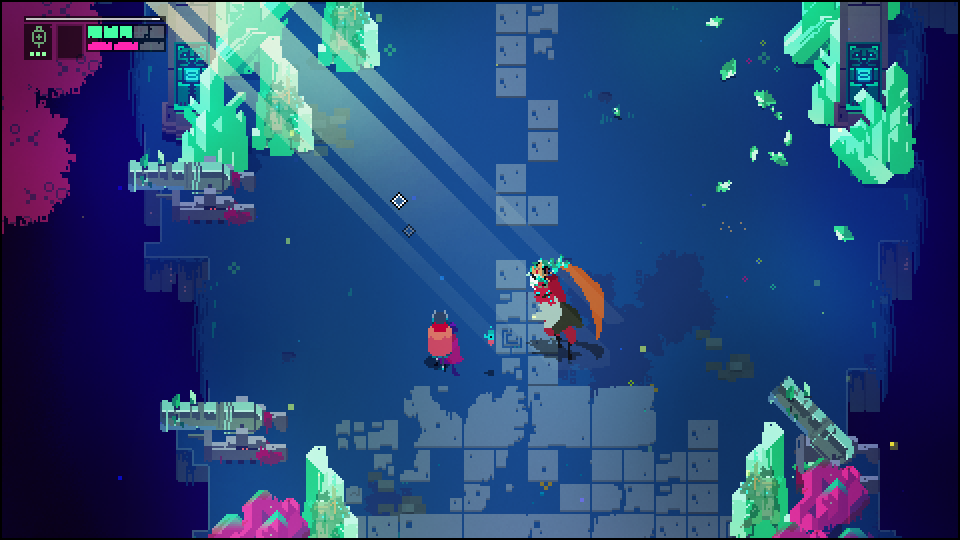hanged_man: (522, 253, 588, 359)
player: (424, 302, 455, 374)
